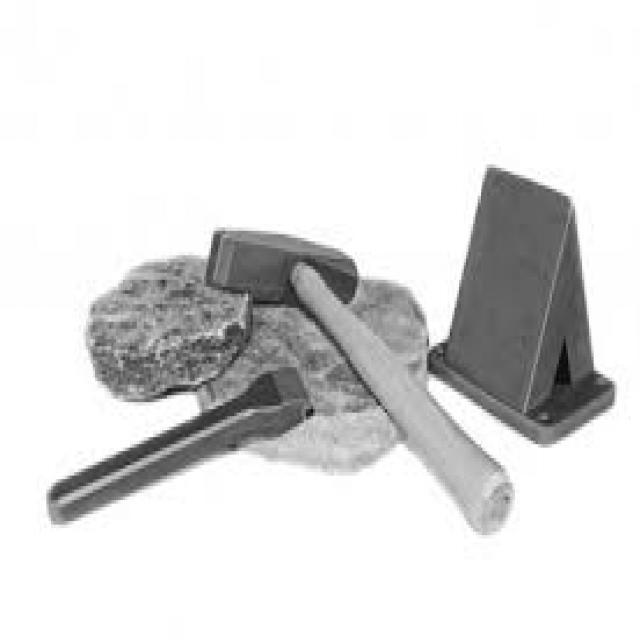hammer: (192, 192, 514, 550)
